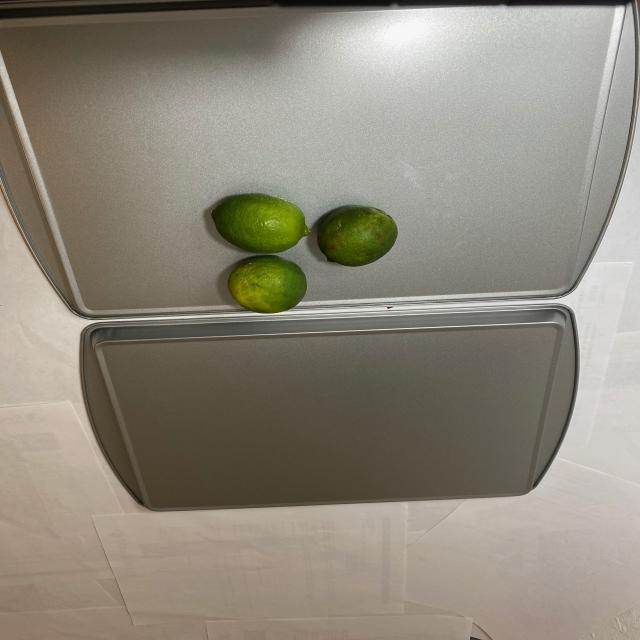lemon: (202, 191, 405, 312)
